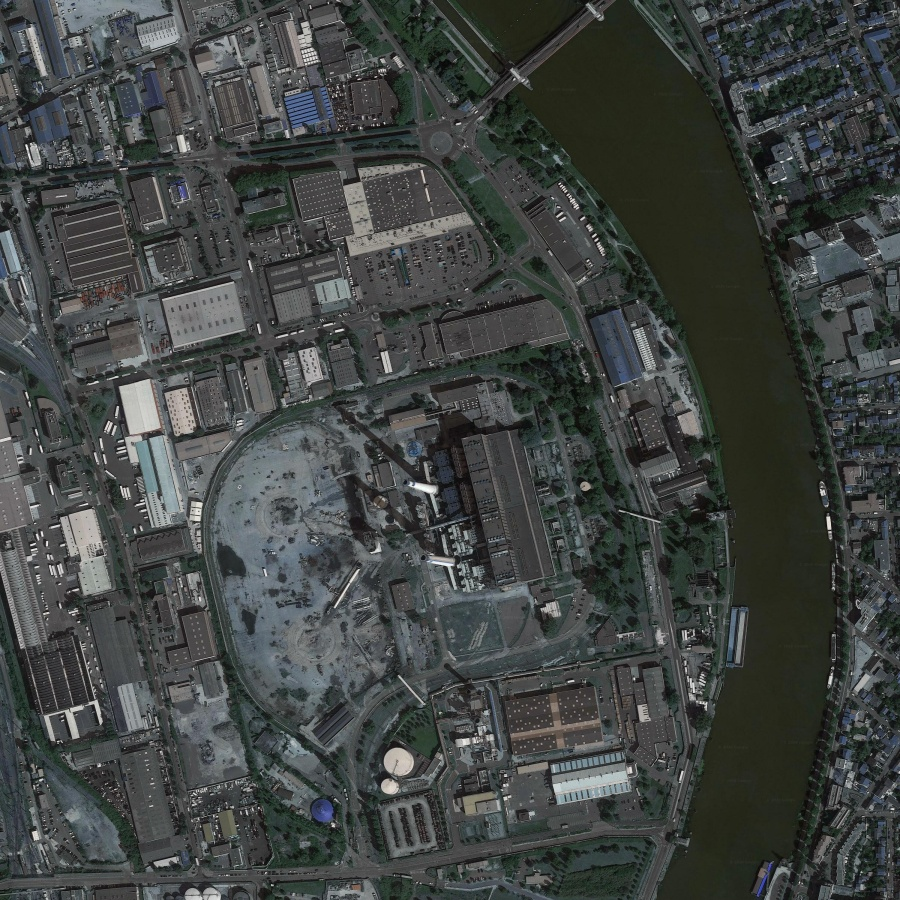PowerPlant: (332, 394, 536, 794)
